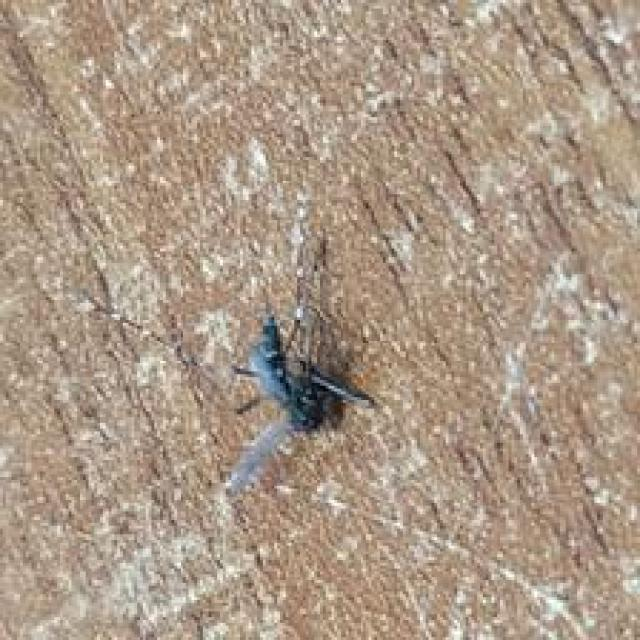Aedes albopictus: (220, 308, 377, 503)
